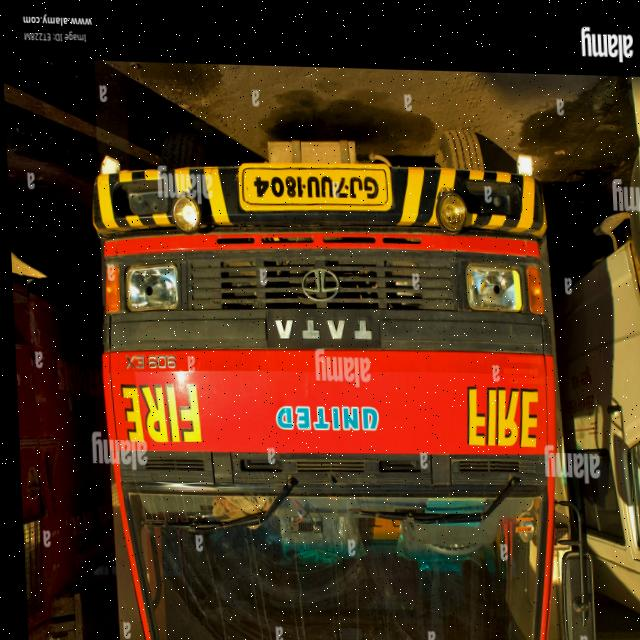plate: (236, 160, 393, 210)
